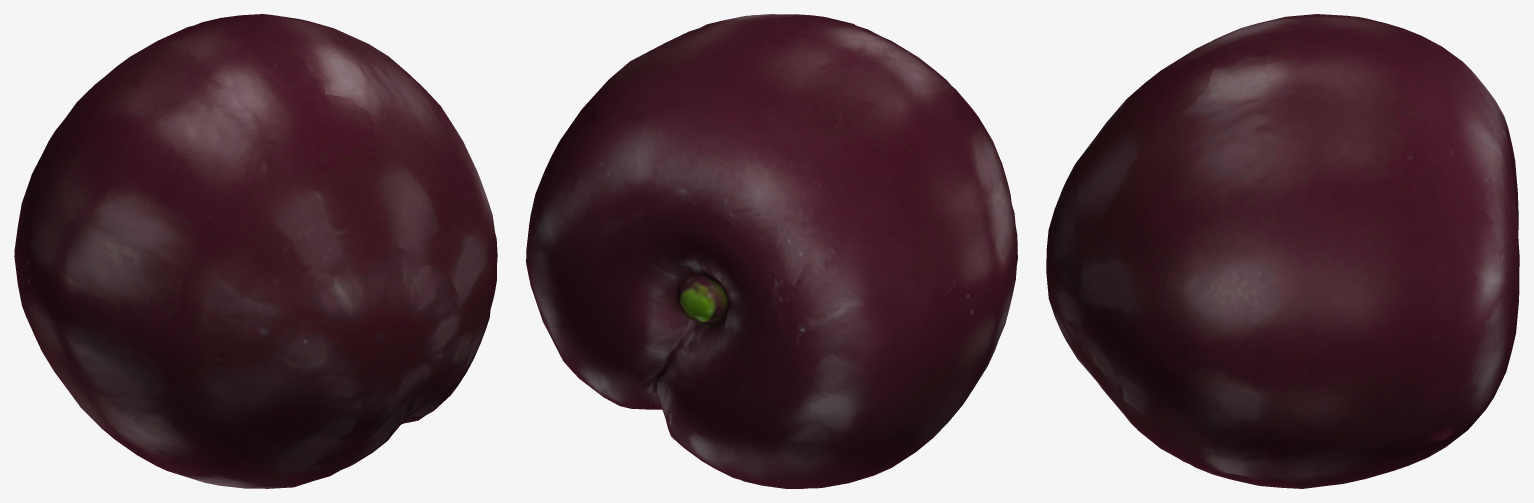
Rendered from 018_plum.obj.
3 renders of one model, left to right at view 1: azimuth 30°, elevation 25°; view 2: azimuth 150°, elevation 25°; view 3: azimuth 270°, elevation 25°, orthographic. The views are drawn at different scales.
Parts seen in each view (by area): view 1: 018_plum; view 2: 018_plum; view 3: 018_plum.
Boxes of the visible parts, x1=… form: 018_plum: x1=14, y1=14, x2=497, y2=488; 018_plum: x1=526, y1=14, x2=1017, y2=488; 018_plum: x1=1046, y1=14, x2=1519, y2=488.
Bounding box in the file's own units: 0.0572 × 0.0549 × 0.053.
Materials: 1 (1 with a texture image).
